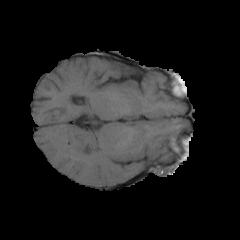glioma: (48, 133, 118, 166)
